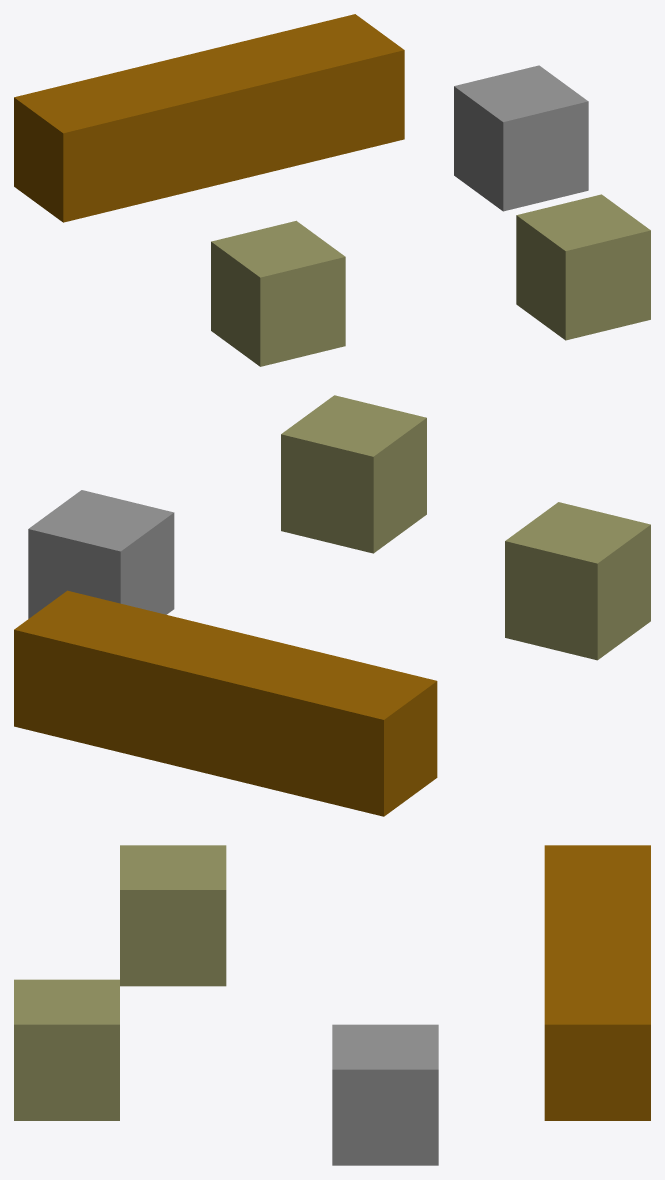
The model's file is obj_rubbish2.fbx.
The picture shows the model from 3 angles, top to bottom: view 1: azimuth 30°, elevation 25°; view 2: azimuth 150°, elevation 25°; view 3: azimuth 270°, elevation 25°; orthographic projection. The views are drawn at different scales.
Visible parts, largest first — view 1: obj_rubbish2; view 2: obj_rubbish2; view 3: obj_rubbish2.
Part boxes in pixels (box(x1,y1,x2,y2)): obj_rubbish2: box(14, 14, 650, 366); obj_rubbish2: box(14, 395, 650, 816); obj_rubbish2: box(14, 845, 650, 1165).
Bounding box in the file's own units: 0.5 × 0.6 × 0.1.
1 material, 1 textured.
